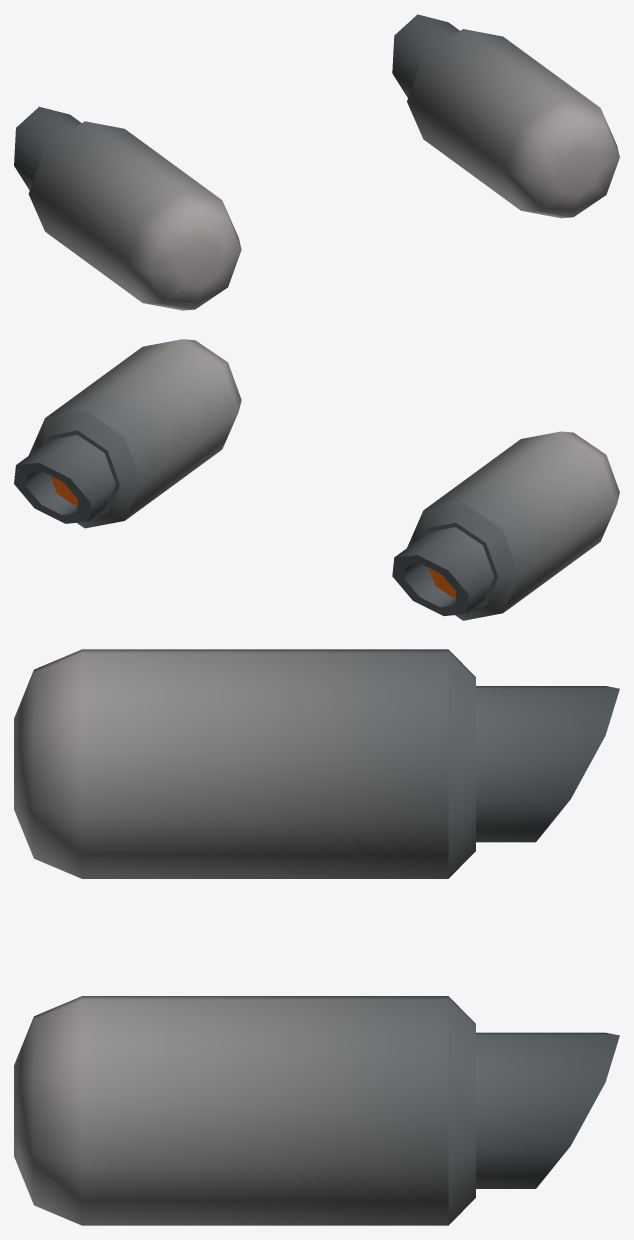
File: Car_15_Pipe_Simple.fbx
The picture shows the model from 3 angles, top to bottom: view 1: azimuth 30°, elevation 25°; view 2: azimuth 150°, elevation 25°; view 3: azimuth 270°, elevation 25°; orthographic projection. The views are drawn at different scales.
Parts seen in each view (by area): view 1: Car_15_Pipe_Simple; view 2: Car_15_Pipe_Simple; view 3: Car_15_Pipe_Simple.
Boxes of the visible parts, left/top/right/bottom form: Car_15_Pipe_Simple: left=14, top=14, right=619, bottom=310; Car_15_Pipe_Simple: left=14, top=339, right=619, bottom=620; Car_15_Pipe_Simple: left=14, top=649, right=619, bottom=1225.
Size of the model in its own units: 83.4 by 47.46 by 19.14.
